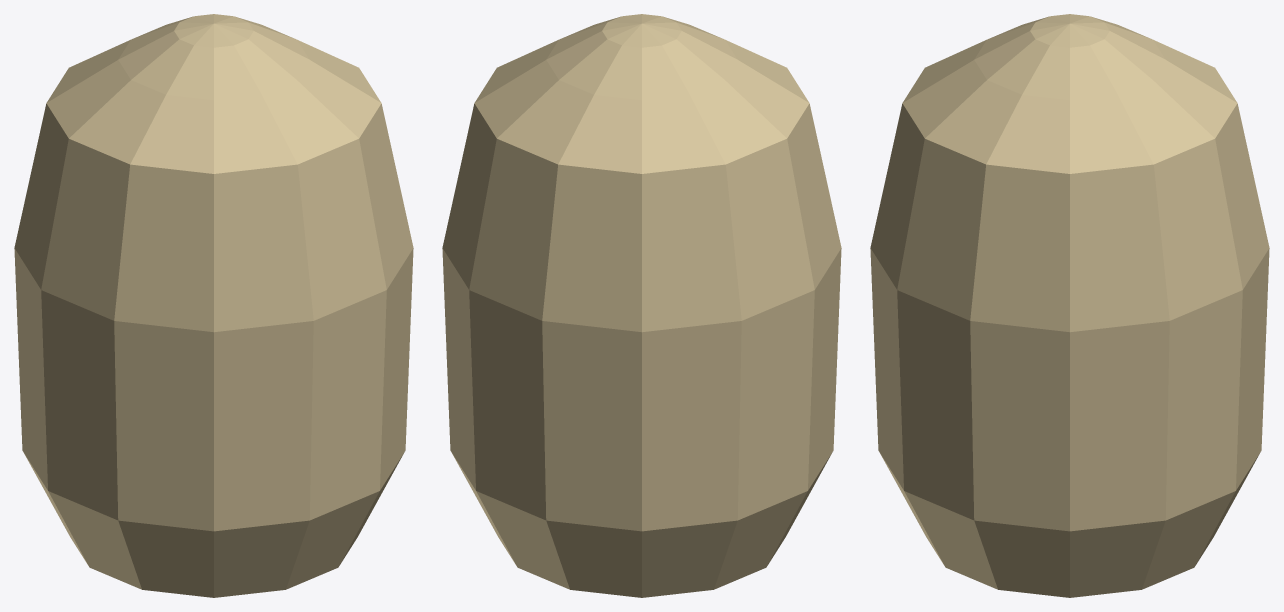
The model's file is cuval.glb.
The picture shows the model from 3 angles, left to right: view 1: azimuth 30°, elevation 25°; view 2: azimuth 150°, elevation 25°; view 3: azimuth 270°, elevation 25°; orthographic projection.
Parts seen in each view (by area): view 1: cuval; view 2: cuval; view 3: cuval.
Part boxes in pixels (x1,y1,x2,y2): cuval: (14, 14, 413, 597); cuval: (442, 14, 841, 597); cuval: (870, 14, 1269, 597).
Size of the model in its own units: 0.5 by 0.71 by 0.5.
